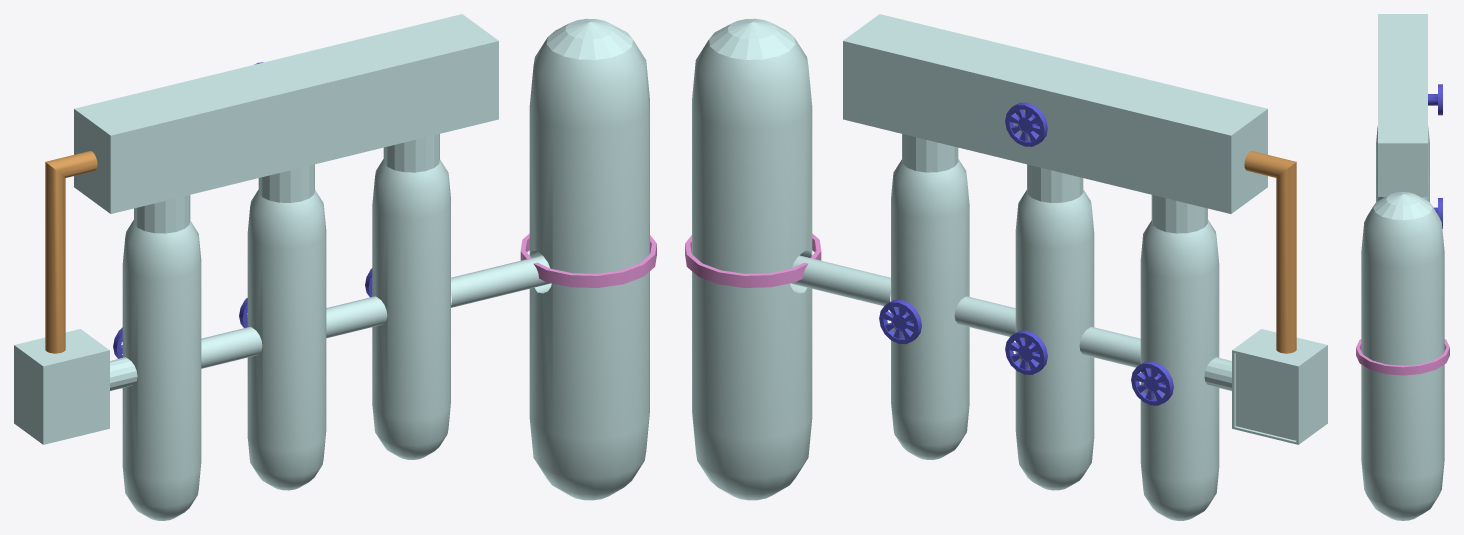
The model's file is Agua.glb.
3 renders of one model, left to right at view 1: azimuth 30°, elevation 25°; view 2: azimuth 150°, elevation 25°; view 3: azimuth 270°, elevation 25°, orthographic. The views are drawn at different scales.
Parts seen in each view (by area): view 1: Sphere001, Box002, Box001, Rectangle001, Tube001; view 2: Sphere001, Box002, Box001, Cylinder001, Rectangle001, Tube001; view 3: Sphere001, Box002, Tube001, Cylinder001.
Part boxes in pixels (x1,y1,x2,y2): Sphere001: (110, 18, 649, 520); Box002: (74, 14, 498, 213); Box001: (14, 329, 109, 444); Rectangle001: (45, 151, 97, 353); Tube001: (520, 233, 656, 287); Sphere001: (692, 18, 1231, 520); Box002: (843, 14, 1267, 213); Box001: (1232, 329, 1327, 444); Cylinder001: (879, 102, 1173, 405); Rectangle001: (1244, 151, 1296, 353); Tube001: (685, 233, 821, 287); Sphere001: (1361, 126, 1444, 520); Box002: (1378, 14, 1427, 196); Tube001: (1356, 339, 1449, 375); Cylinder001: (1428, 84, 1442, 228).
Size of the model in its own units: 8.9 by 6.79 by 1.71.
